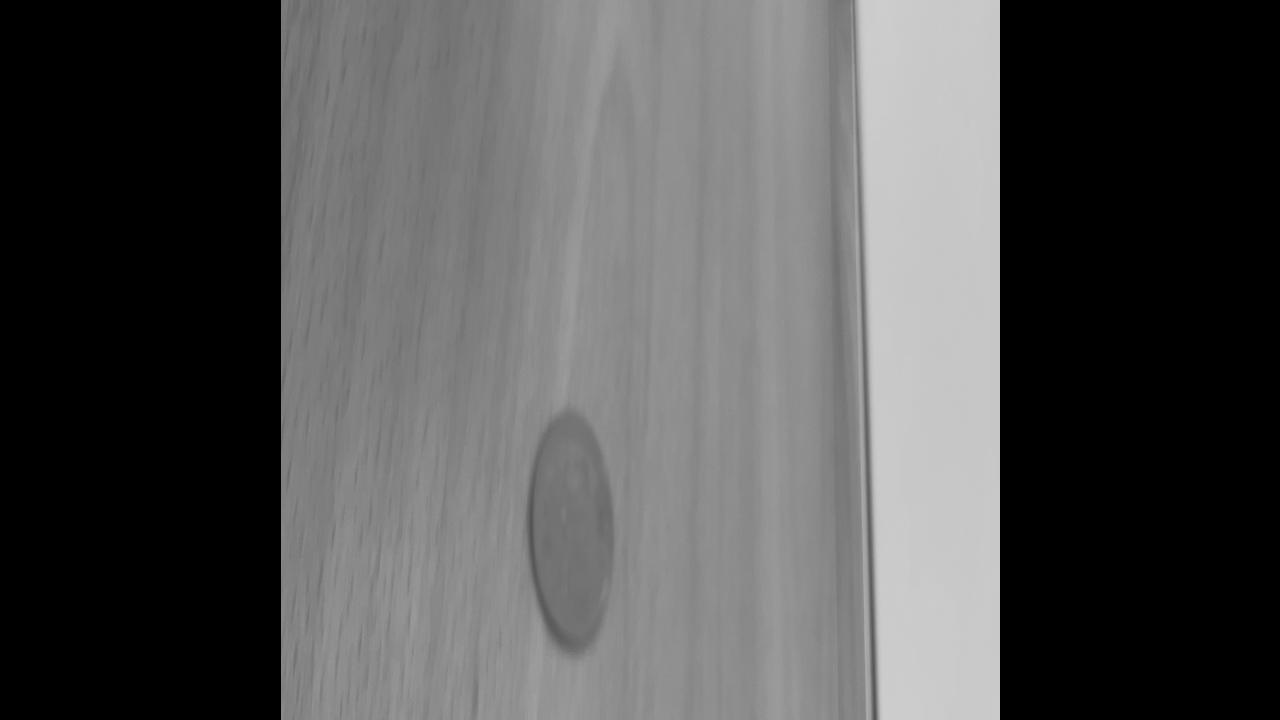coin: (527, 408, 615, 648)
